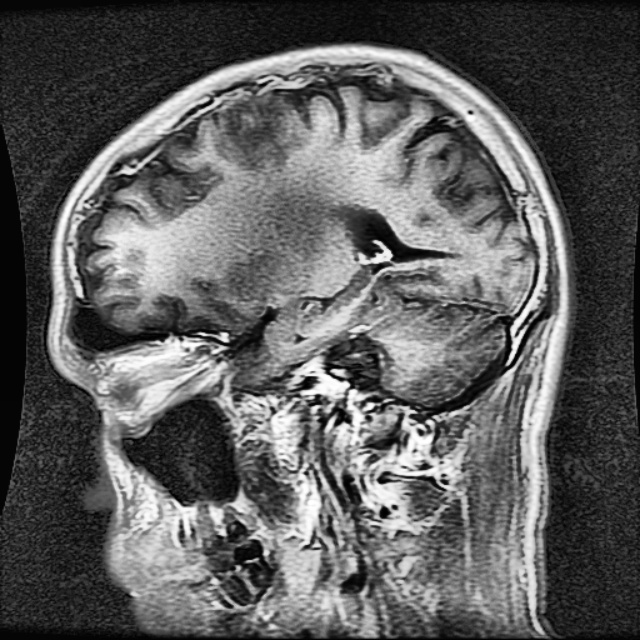Meningioma: (209, 95, 300, 165)
